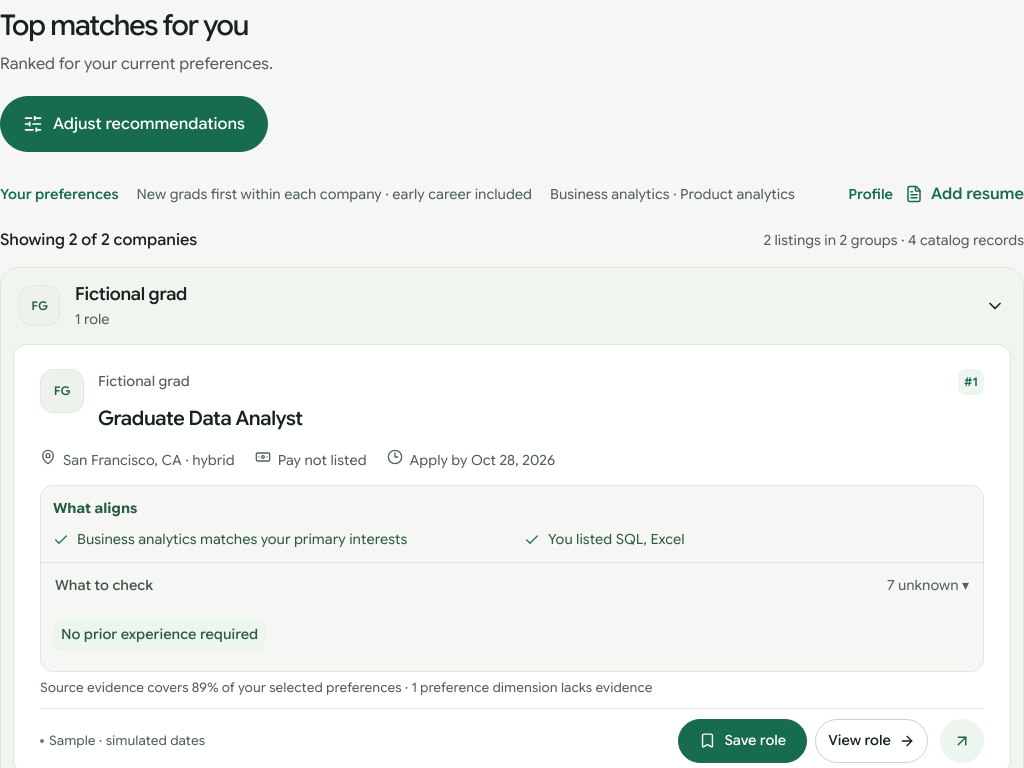
Scenario: recommendation browsing batches › includes early-career companies after graduate companies and preserves an explicit all-experience selection
expect the text "New grads first within each company · early career included" is shown: met, box [136,183,532,205]
Click the button "Adjust recommendations" at x=134, y=124, box [0,96,268,152]
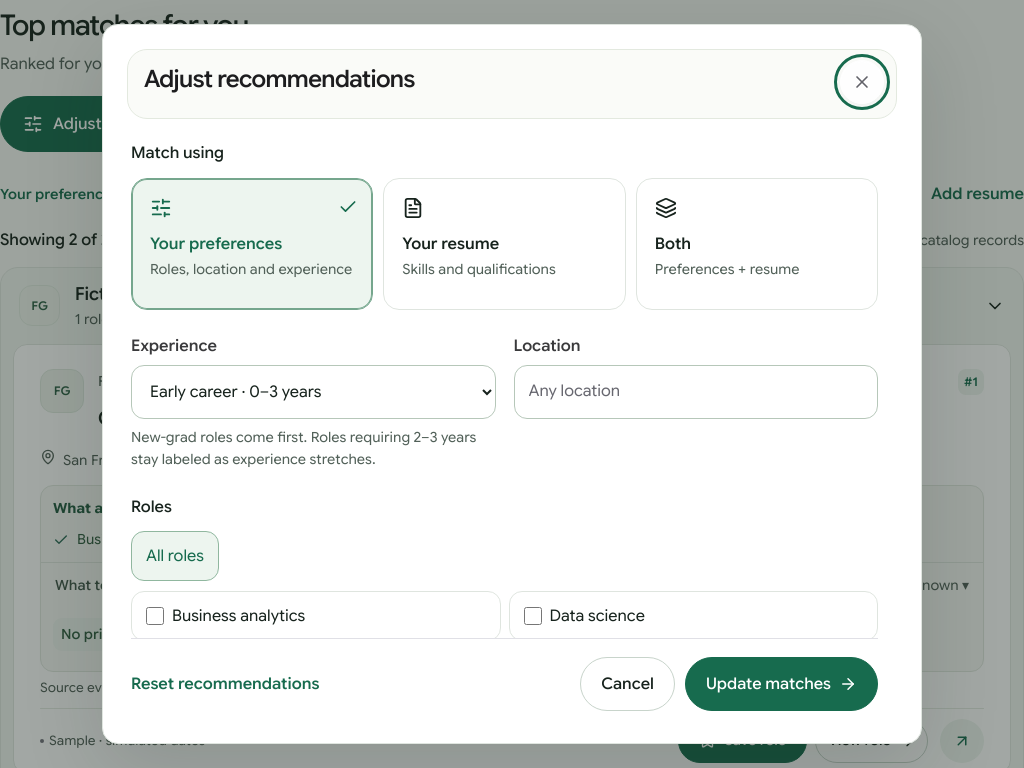
expect the dropdown labelled "Experience" shows "Early career · 0–3 years": met
Select "All experience levels" in the dropdown labelled "Experience" at x=313, y=392, box [131,365,496,419]
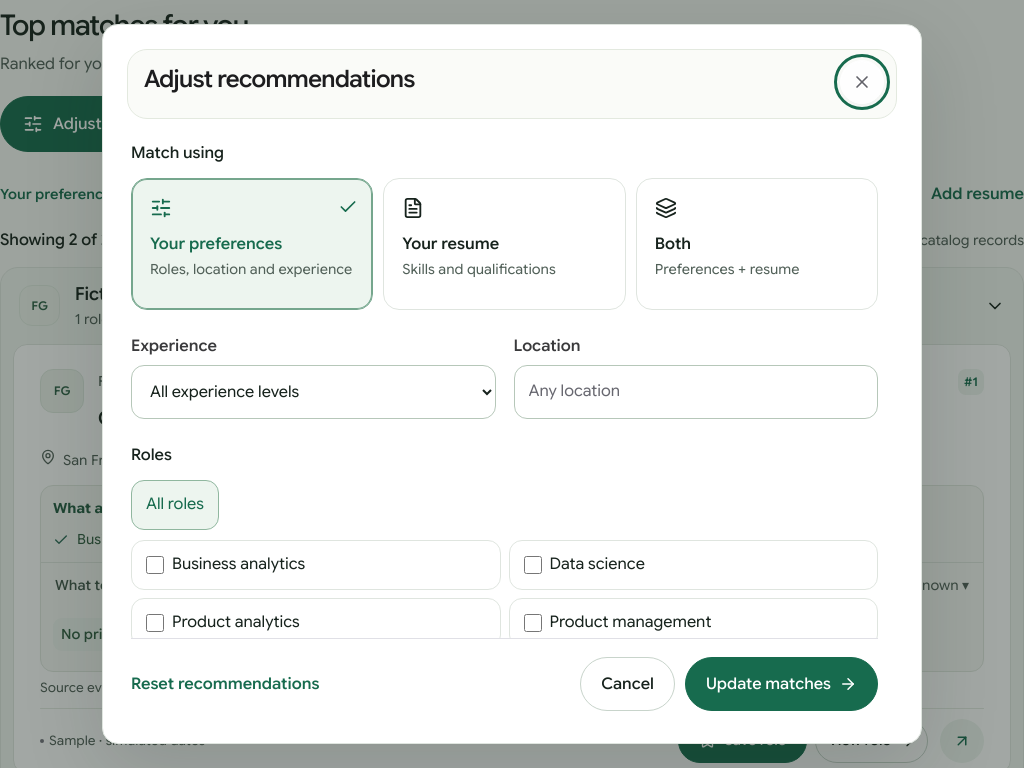
Click the button "Update matches" at x=781, y=684, box [685,657,878,711]
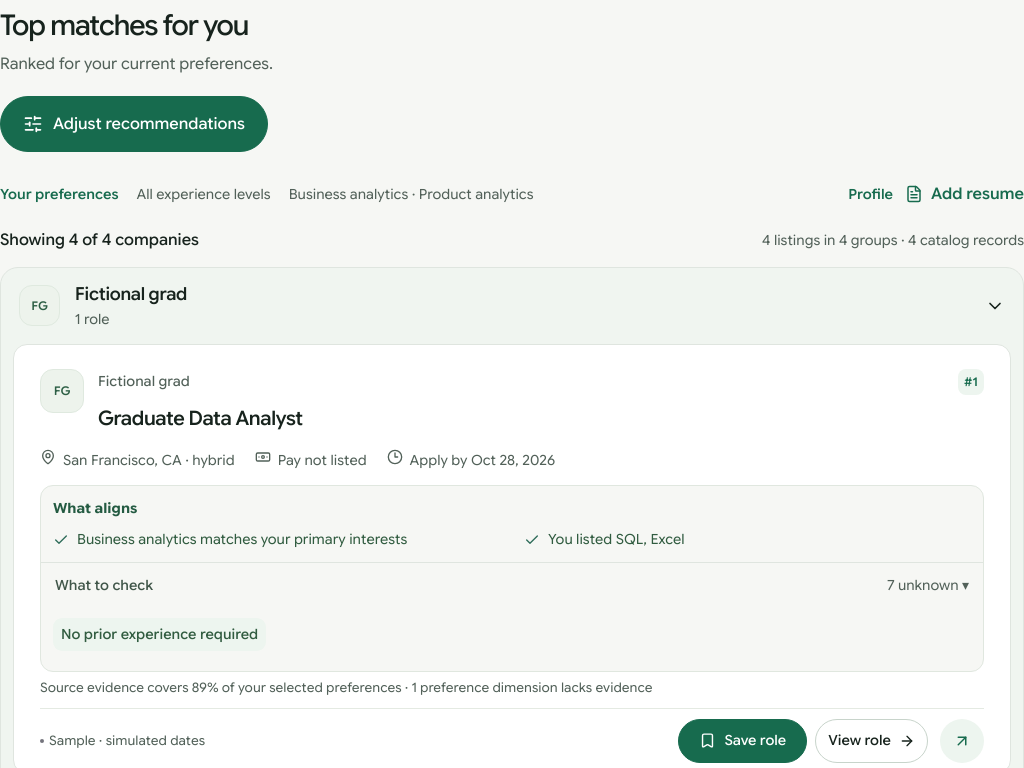
expect the text "All experience levels" is shown: met, box [136,183,271,205]
